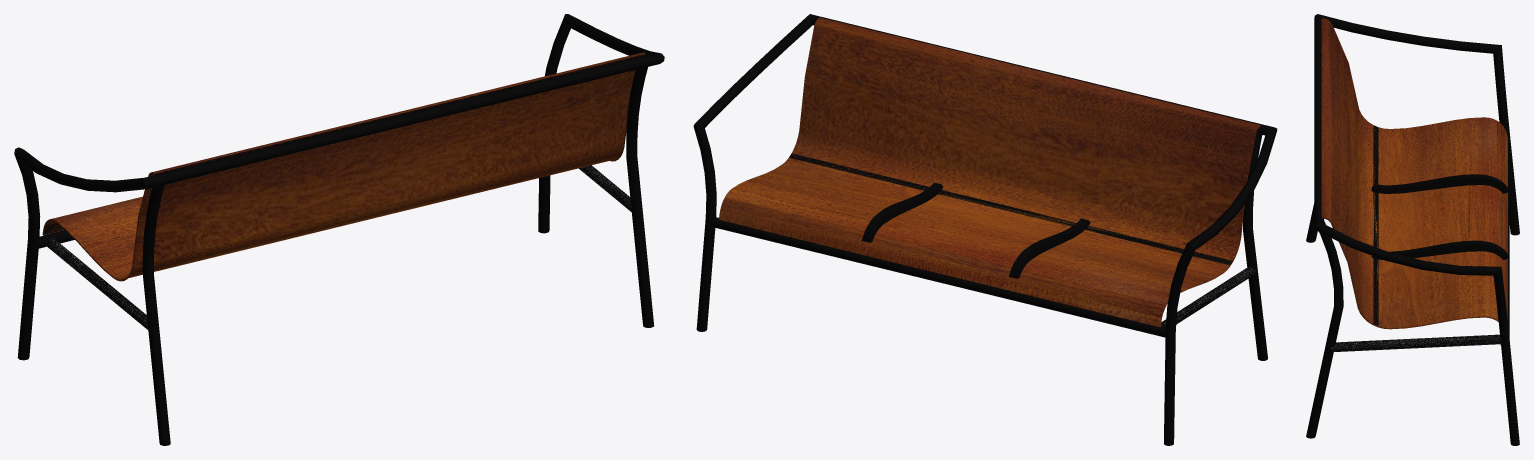
3 renders of one model, left to right at view 1: azimuth 30°, elevation 25°; view 2: azimuth 150°, elevation 25°; view 3: azimuth 270°, elevation 25°, orthographic. The views are drawn at different scales.
Parts seen in each view (by area): view 1: mesh13_mesh13-geometry, mesh9_mesh9-geometry, mesh10_mesh10-geometry, mesh5_mesh5-geometry, mesh1_mesh1-geometry, mesh12_mesh12-geometry; view 2: mesh13_mesh13-geometry, mesh11_mesh11-geometry, mesh1_mesh1-geometry, mesh5_mesh5-geometry, mesh14_mesh14-geometry, mesh10_mesh10-geometry, mesh12_mesh12-geometry, mesh9_mesh9-geometry; view 3: mesh13_mesh13-geometry, mesh1_mesh1-geometry, mesh5_mesh5-geometry, mesh14_mesh14-geometry, mesh10_mesh10-geometry, mesh12_mesh12-geometry, mesh9_mesh9-geometry, mesh11_mesh11-geometry.
Boxes of the visible parts, x1,y1,x2,y2 form: mesh13_mesh13-geometry: (42,52,645,281); mesh9_mesh9-geometry: (144,52,664,188); mesh10_mesh10-geometry: (142,66,654,445); mesh5_mesh5-geometry: (14,147,146,360); mesh1_mesh1-geometry: (538,14,658,233); mesh12_mesh12-geometry: (46,165,631,330); mesh13_mesh13-geometry: (719,17,1260,327); mesh11_mesh11-geometry: (710,217,1166,337); mesh1_mesh1-geometry: (693,14,812,331); mesh5_mesh5-geometry: (1164,127,1277,445); mesh14_mesh14-geometry: (861,182,1090,278); mesh10_mesh10-geometry: (1243,131,1267,360); mesh12_mesh12-geometry: (1161,267,1256,326); mesh9_mesh9-geometry: (810,14,1273,135); mesh13_mesh13-geometry: (1321,18,1507,329); mesh1_mesh1-geometry: (1314,223,1519,445); mesh5_mesh5-geometry: (1319,14,1519,235); mesh14_mesh14-geometry: (1371,174,1508,260); mesh10_mesh10-geometry: (1306,203,1343,438); mesh12_mesh12-geometry: (1330,334,1500,352); mesh9_mesh9-geometry: (1314,14,1323,227); mesh11_mesh11-geometry: (1500,136,1509,345).
Size of the model in its own units: 0.8576 by 0.3865 by 0.3393.
